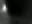person: (3, 5, 8, 15)
